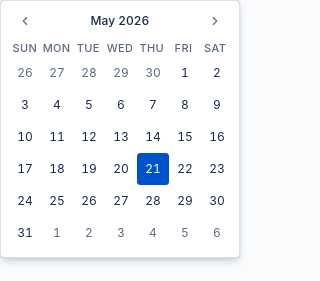
Test case: InlineDatePicker › chevrons step the cursor (month header updates)
Click the button named "Next month".
click(215, 21)  # box [203,9,227,33]
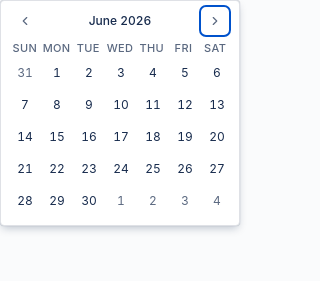
Now the text "June 2026" is shown, box [89,12,151,30]
Click the button named "Previous month".
click(25, 21)  # box [13,9,37,33]
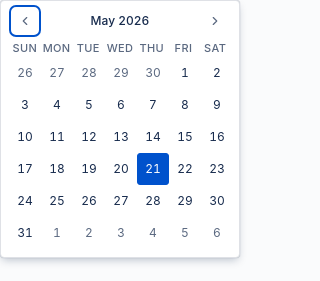
Click the button named "Previous month".
click(25, 21)  # box [13,9,37,33]
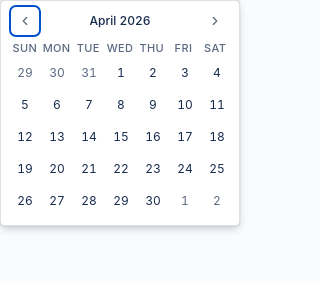
Now the text "April 2026" is shown, box [90,12,150,30]
